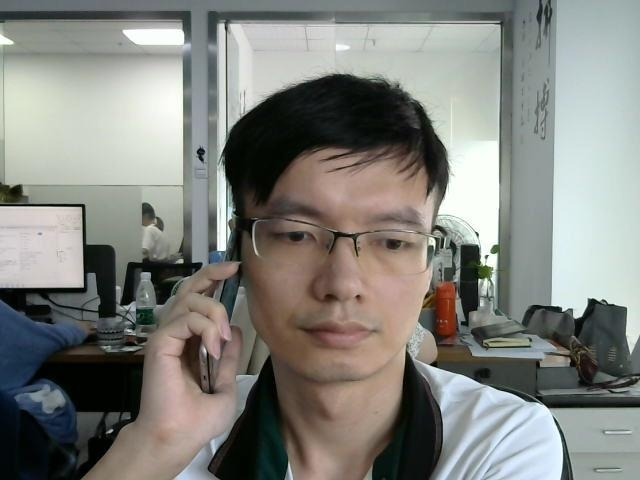hand: (147, 257, 243, 431)
